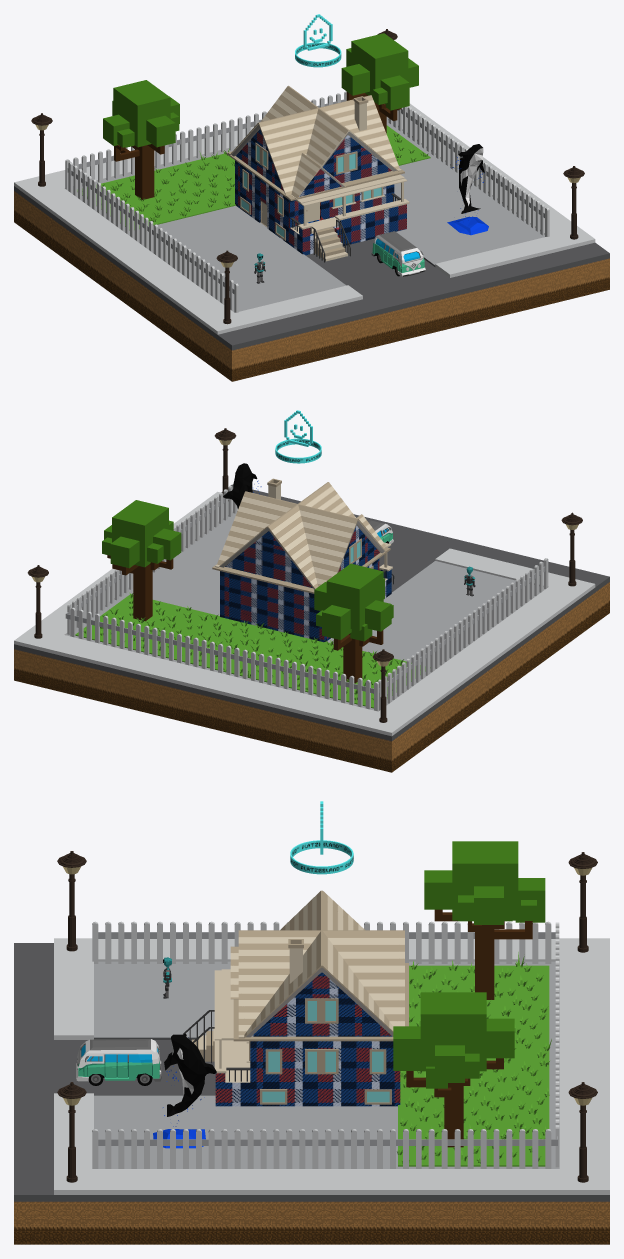
3 renders of one model, top to bottom at view 1: azimuth 30°, elevation 25°; view 2: azimuth 150°, elevation 25°; view 3: azimuth 270°, elevation 25°, orthographic. The views are drawn at different scales.
Visible parts, largest first — view 1: Cube.004, Cube.171, VEHICLES_VAN, ANIMAL_ORCA, TYPE_PREMIUM; view 2: Cube.004, Cube.171, TYPE_PREMIUM, ANIMAL_ORCA; view 3: Cube.004, Cube.171, VEHICLES_VAN, ANIMAL_ORCA, TYPE_PREMIUM.
Boxes of the visible parts, x1,y1,x2,y2 form: Cube.004: [14, 29, 609, 381]; Cube.171: [226, 85, 409, 262]; VEHICLES_VAN: [371, 231, 425, 276]; ANIMAL_ORCA: [447, 144, 488, 235]; TYPE_PREMIUM: [295, 14, 341, 67]; Cube.004: [14, 428, 609, 772]; Cube.171: [212, 478, 394, 642]; TYPE_PREMIUM: [275, 410, 321, 463]; ANIMAL_ORCA: [223, 463, 261, 508]; Cube.004: [14, 841, 609, 1244]; Cube.171: [182, 890, 408, 1106]; VEHICLES_VAN: [76, 1039, 161, 1085]; ANIMAL_ORCA: [153, 1033, 216, 1148]; TYPE_PREMIUM: [290, 801, 353, 874].
Bounding box in the file's own units: 4000 × 2475 × 4000.
35 materials, 5 textured.
